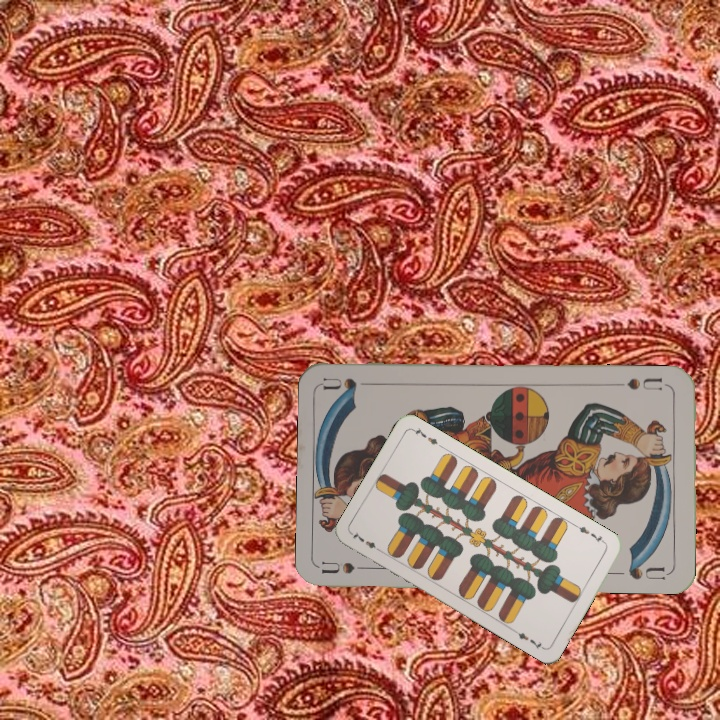E7: (348, 527, 385, 555), (572, 521, 609, 547)
SU: (320, 557, 379, 577), (623, 373, 672, 393)
